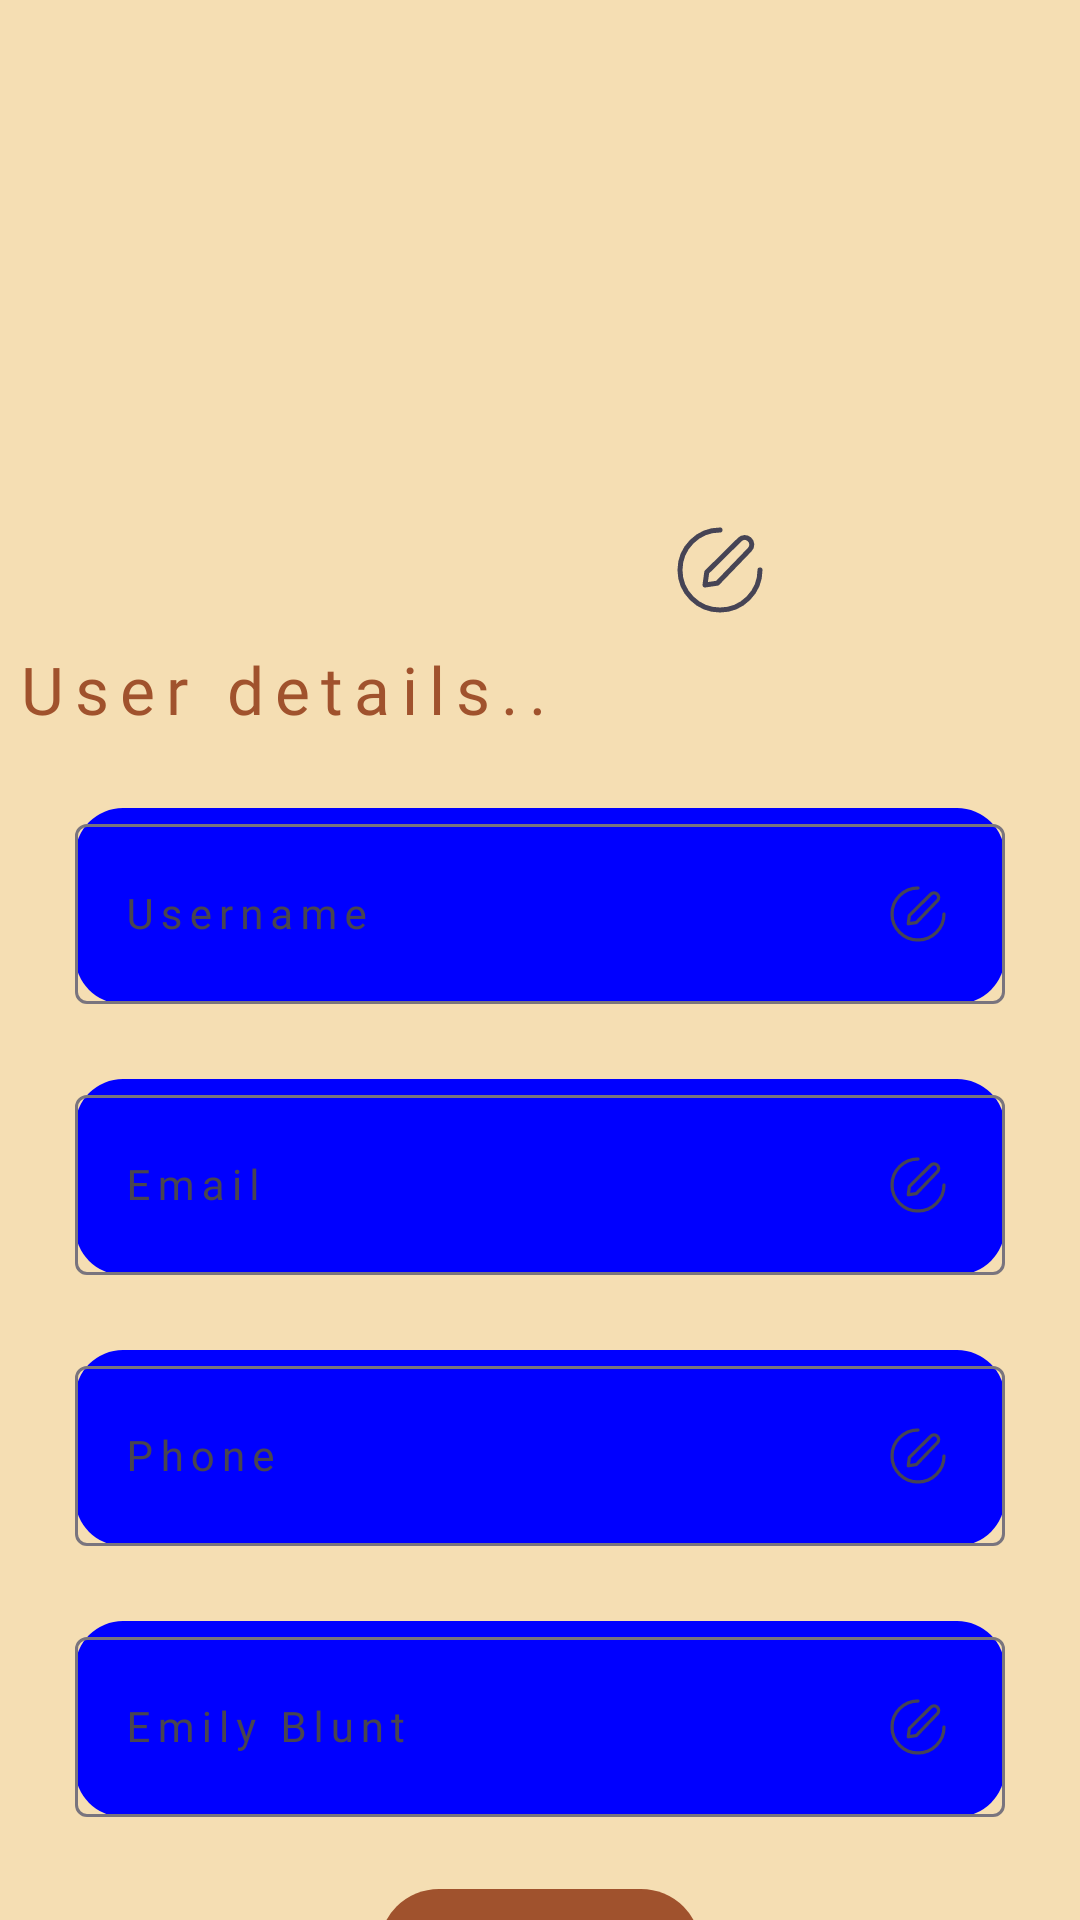

Where icons sit on this 1080w x 1920h app screen, as (x1, y1, x2, y2):
edit: (677, 527, 763, 613)
